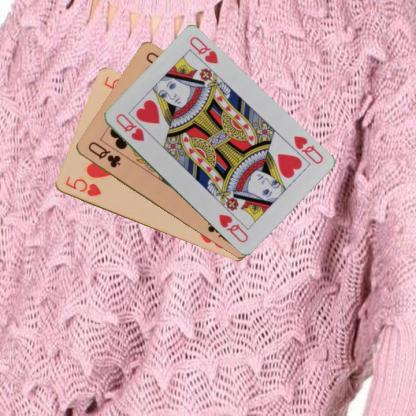5h: (62, 173, 103, 200)
Qc: (85, 139, 122, 169)
Qh: (290, 133, 324, 165), (113, 111, 145, 143)
